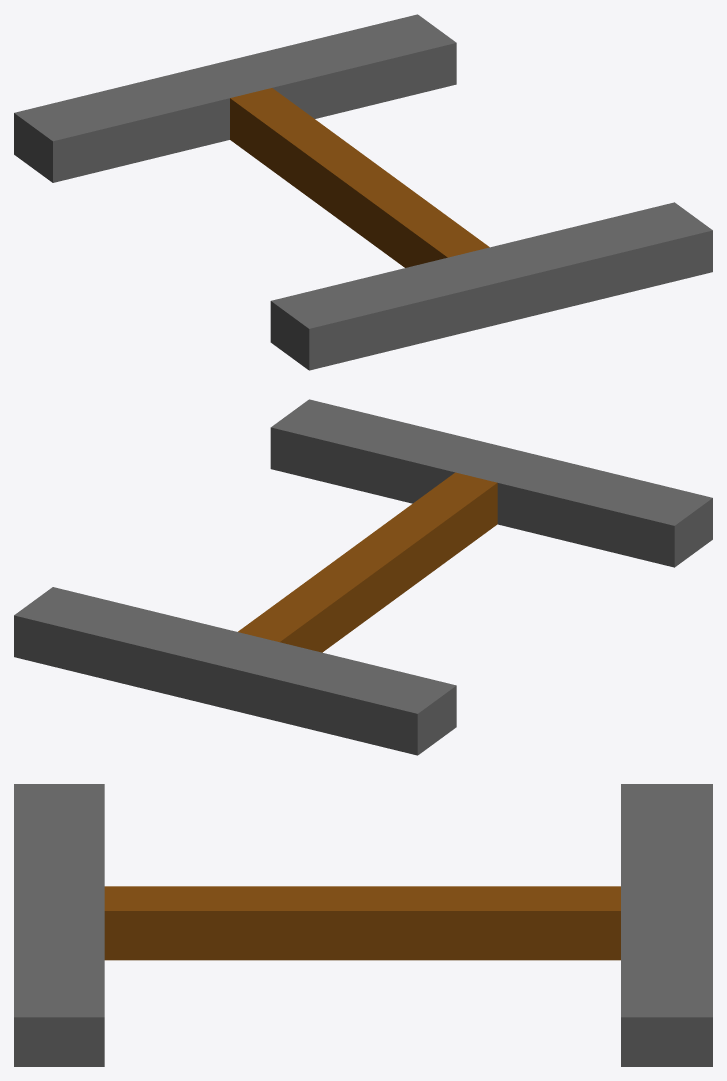
File: trilho.fbx
3 renders of one model, top to bottom at view 1: azimuth 30°, elevation 25°; view 2: azimuth 150°, elevation 25°; view 3: azimuth 270°, elevation 25°, orthographic. The views are drawn at different scales.
Visible parts, largest first — view 1: Cube; view 2: Cube; view 3: Cube.
Part boxes in pixels (x1=…): Cube: x1=14, y1=14, x2=712, y2=370; Cube: x1=14, y1=399, x2=712, y2=755; Cube: x1=14, y1=784, x2=712, y2=1066.
Size of the model in its own units: 1198 by 118 by 1517.
